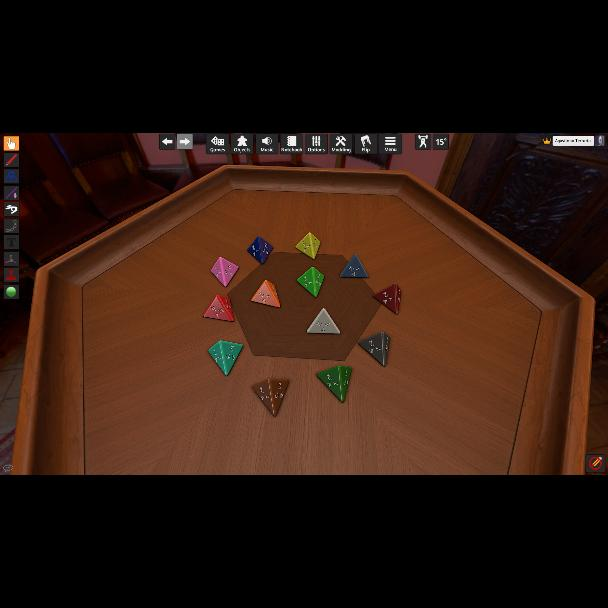d4: (252, 378, 290, 418), (316, 366, 352, 402), (208, 340, 242, 374), (359, 332, 390, 366), (372, 282, 400, 316), (297, 266, 325, 298), (211, 256, 239, 288), (307, 307, 341, 333), (204, 295, 235, 323), (251, 280, 281, 308), (339, 254, 367, 280), (248, 236, 272, 266), (296, 232, 320, 260)
